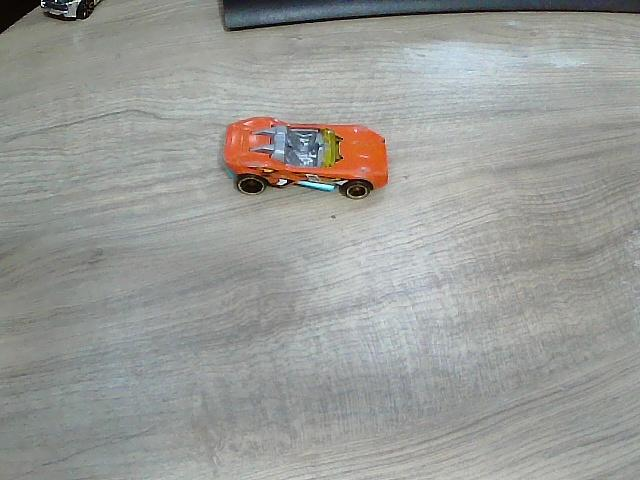Carro: (222, 117, 390, 199), (38, 0, 107, 22)
